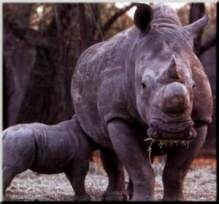rhino: (71, 3, 213, 204), (2, 112, 102, 201)
